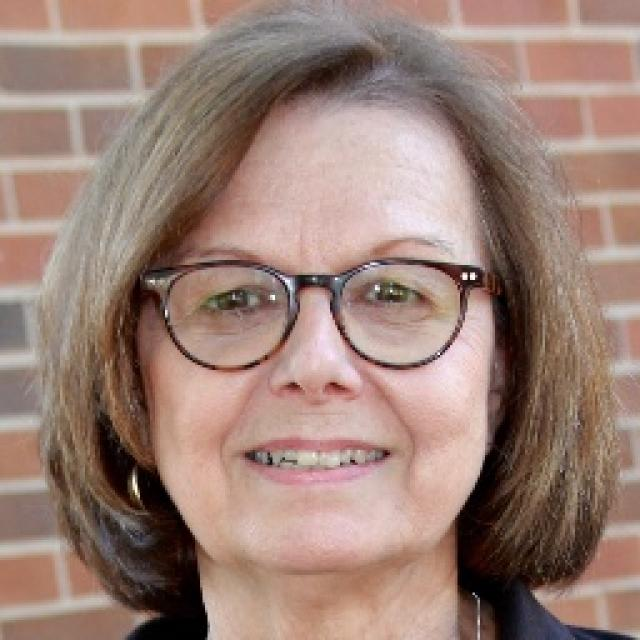earlobe: (485, 333, 515, 451)
